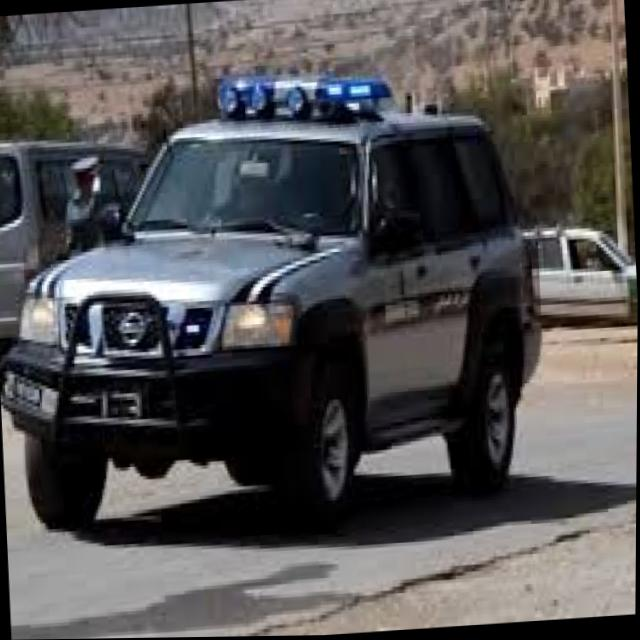gendarme car: (0, 53, 555, 554)
